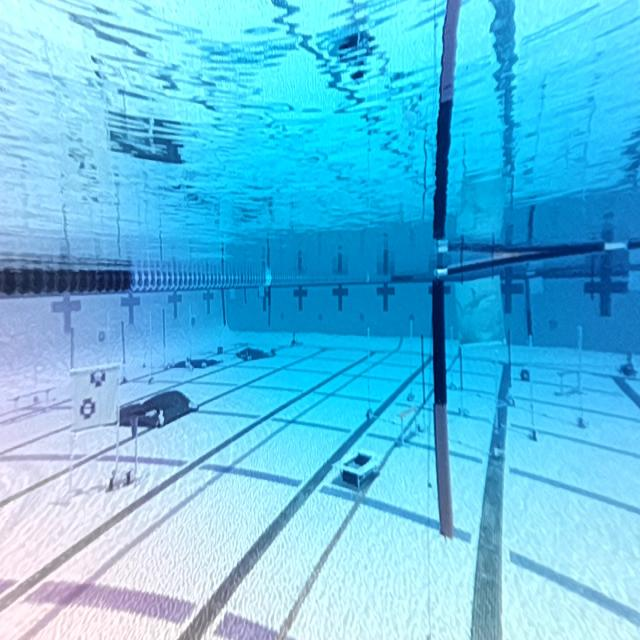round_nose: (457, 286, 500, 332)
